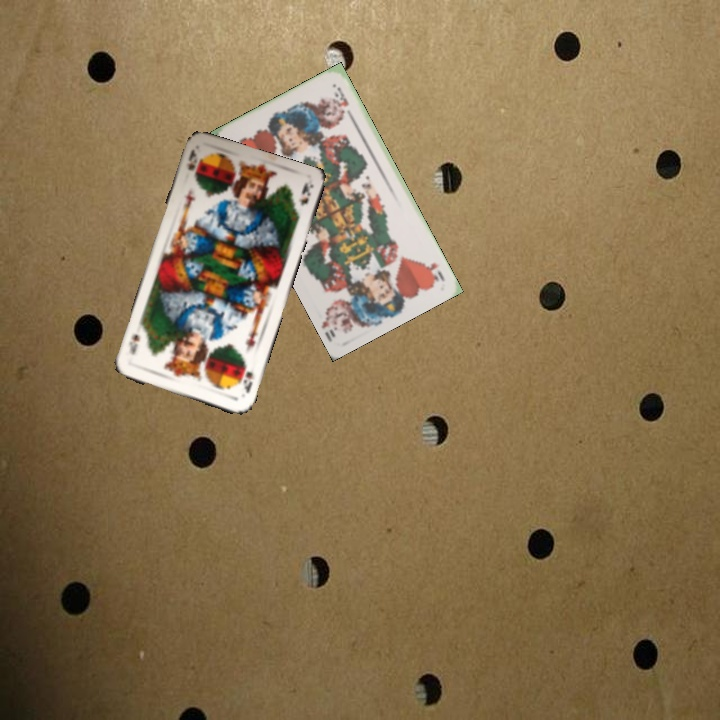HO: (423, 258, 447, 284)
SK: (236, 361, 256, 396), (183, 145, 200, 173)
